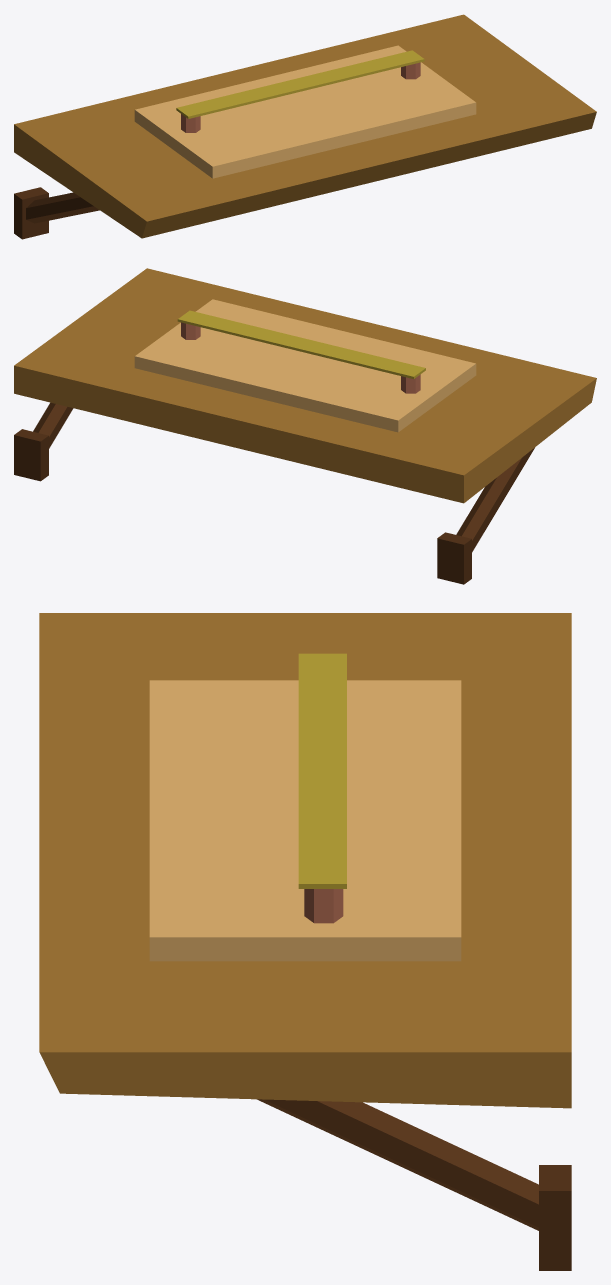
Rendered from Wall-mounted Wine Rack.fbx.
3 views of the same model, one above another, from view 1: azimuth 30°, elevation 25°; view 2: azimuth 150°, elevation 25°; view 3: azimuth 270°, elevation 25° (orthographic). The views are drawn at different scales.
Parts seen in each view (by area): view 1: Wall-mounted Wine Rack; view 2: Wall-mounted Wine Rack; view 3: Wall-mounted Wine Rack.
Part boxes in pixels (x1,y1,x2,y2): Wall-mounted Wine Rack: [14, 14, 596, 239]; Wall-mounted Wine Rack: [14, 268, 596, 584]; Wall-mounted Wine Rack: [39, 613, 571, 1270].
Size of the model in its own units: 2.34 by 0.6992 by 1.2.
